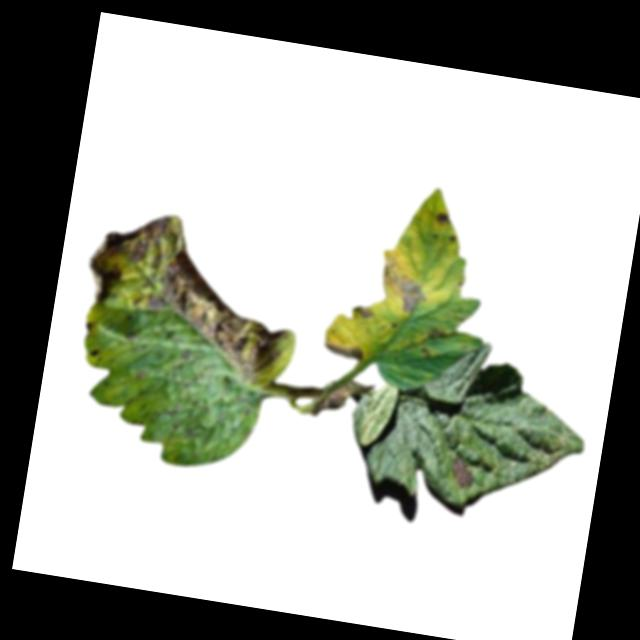Early_blight: (74, 202, 309, 391), (375, 250, 432, 316), (446, 456, 478, 490), (324, 341, 365, 363), (348, 304, 372, 322), (427, 326, 448, 342), (433, 211, 450, 229)
